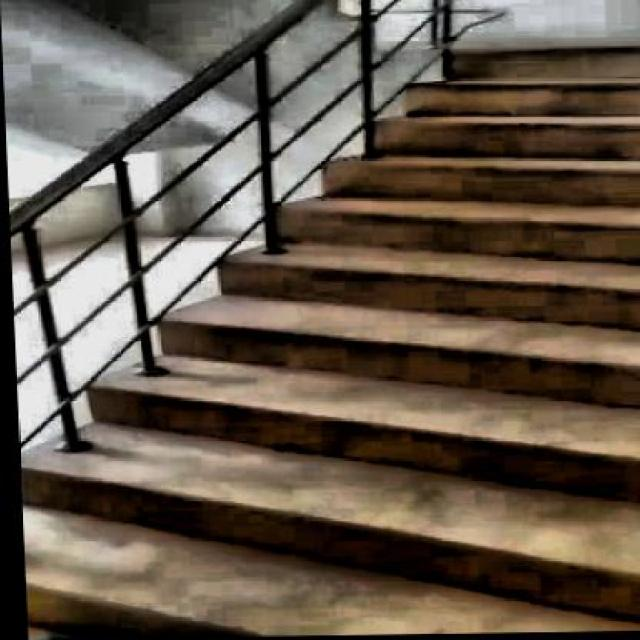stair: (17, 40, 638, 638)
